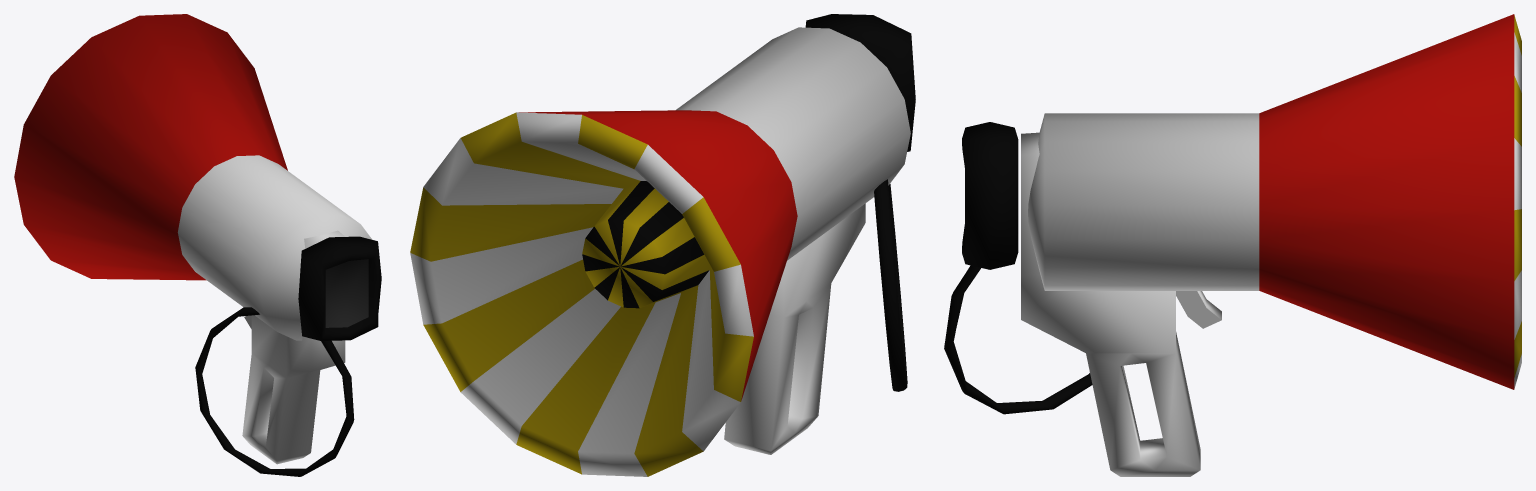
The model's file is megaphone.obj.
The picture shows the model from 3 angles, left to right: view 1: azimuth 30°, elevation 25°; view 2: azimuth 150°, elevation 25°; view 3: azimuth 270°, elevation 25°; orthographic projection. The views are drawn at different scales.
Visible parts, largest first — view 1: Cylinder; view 2: Cylinder; view 3: Cylinder.
Part boxes in pixels (bbox=[...]): Cylinder: bbox=[14, 14, 381, 476]; Cylinder: bbox=[410, 14, 915, 476]; Cylinder: bbox=[944, 14, 1521, 476].
Size of the model in its own units: 10.58 by 13.56 by 16.24.
